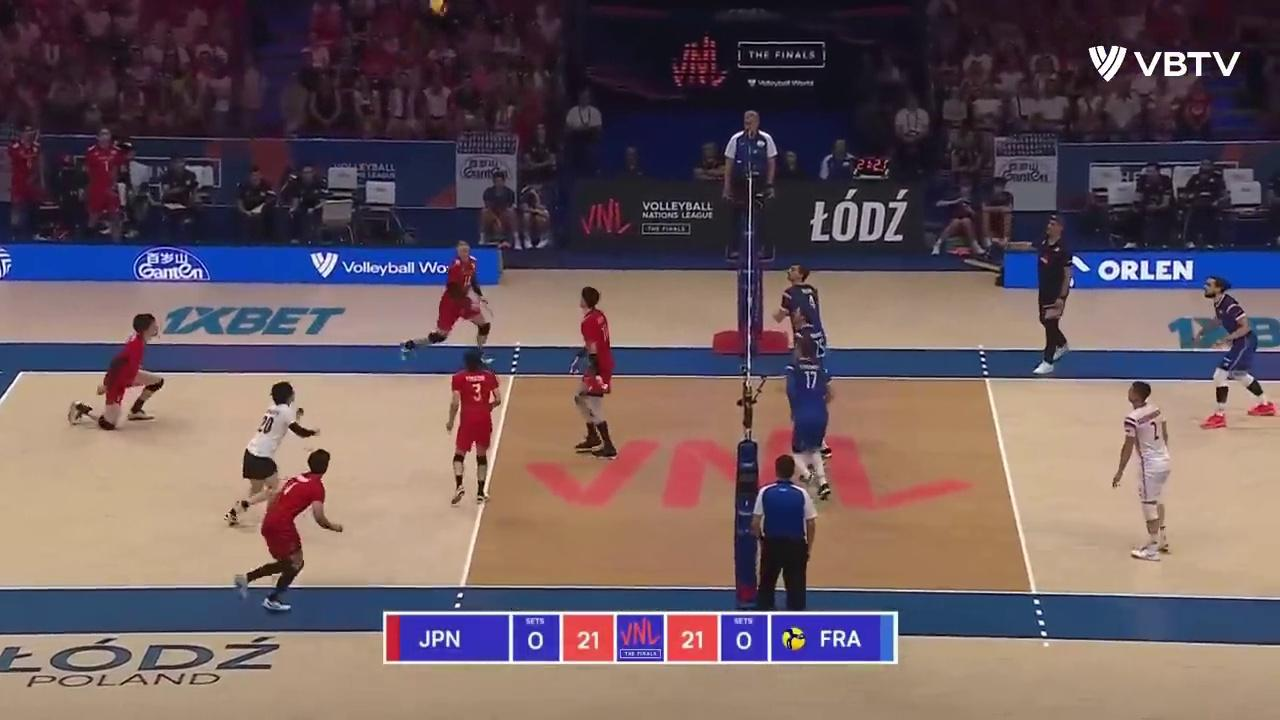ball: (429, 1, 447, 16)
